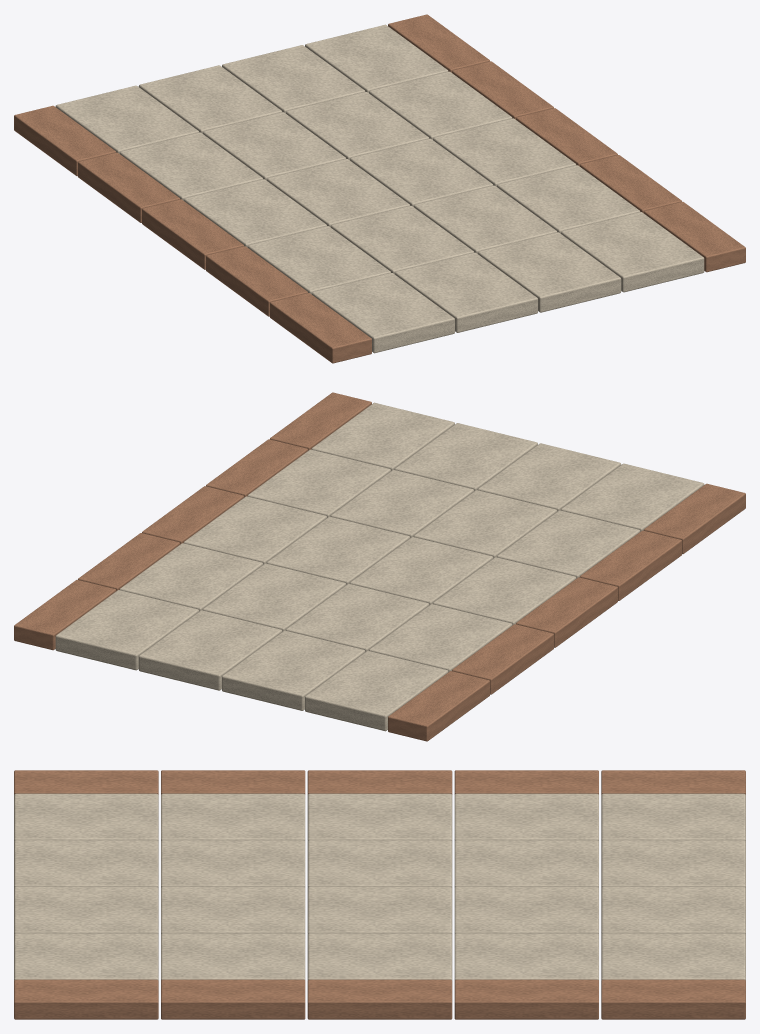
File: paving.glb
3 views of the same model, one above another, from view 1: azimuth 30°, elevation 25°; view 2: azimuth 150°, elevation 25°; view 3: azimuth 270°, elevation 25° (orthographic). The views are drawn at different scales.
Parts seen in each view (by area): view 1: paving; view 2: paving; view 3: paving.
Part boxes in pixels (bbox=[...]): paving: bbox=[14, 14, 745, 363]; paving: bbox=[14, 392, 745, 741]; paving: bbox=[14, 770, 745, 1019].
Size of the model in its own units: 1.5 by 0.055 by 1.99.
2 materials, 2 textured.
